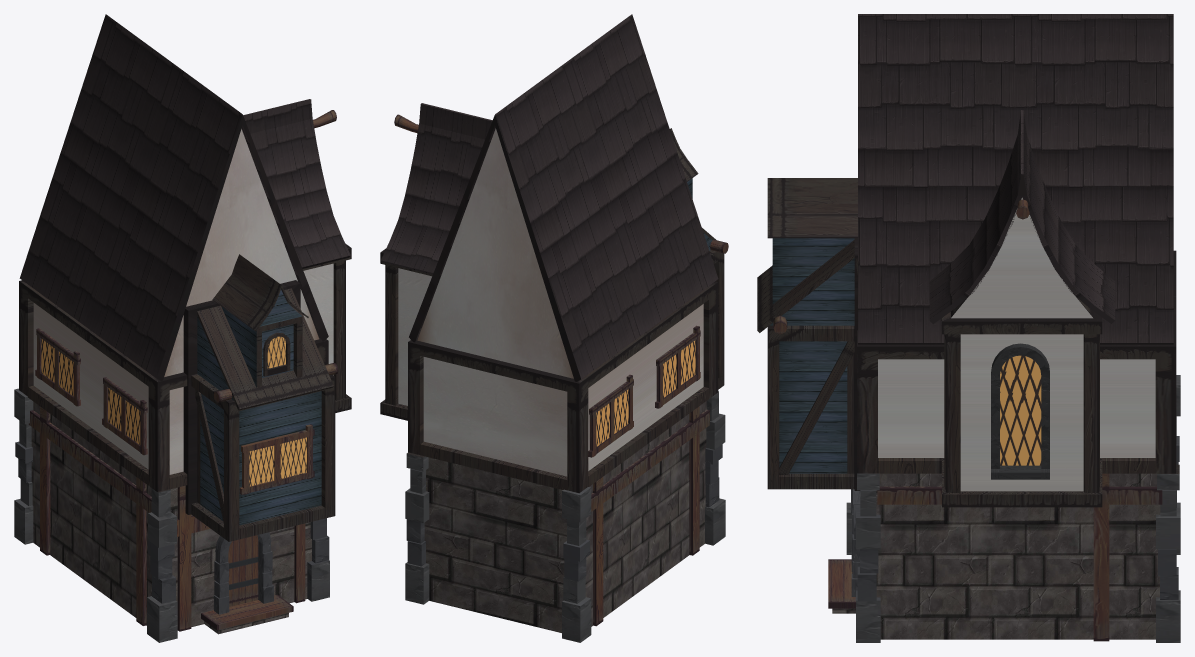
File: house1.FBX
The picture shows the model from 3 angles, left to right: view 1: azimuth 30°, elevation 25°; view 2: azimuth 150°, elevation 25°; view 3: azimuth 270°, elevation 25°; orthographic projection. The views are drawn at different scales.
Visible parts, largest first — view 1: Object024; view 2: Object024; view 3: Object024.
Boxes of the visible parts, x1=… form: Object024: x1=14, y1=14, x2=351, y2=642; Object024: x1=380, y1=14, x2=728, y2=642; Object024: x1=757, y1=14, x2=1180, y2=642.
Bounding box in the file's own units: 74.89 × 143 × 94.88.
